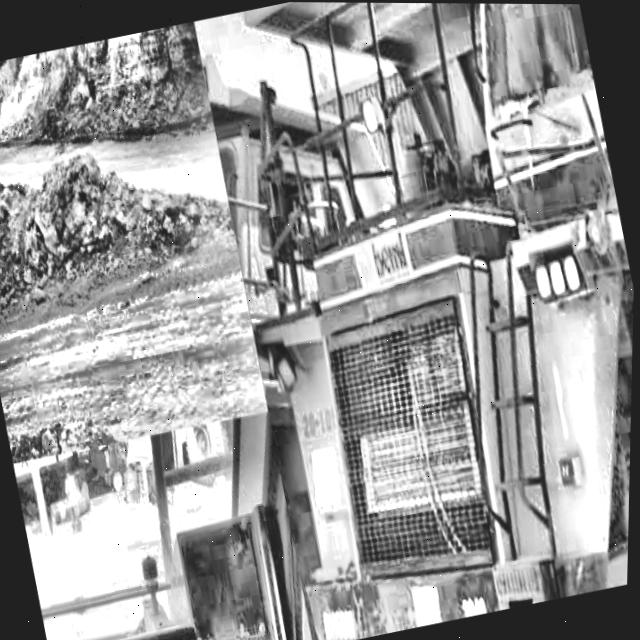dump_truck: (205, 1, 640, 640)
